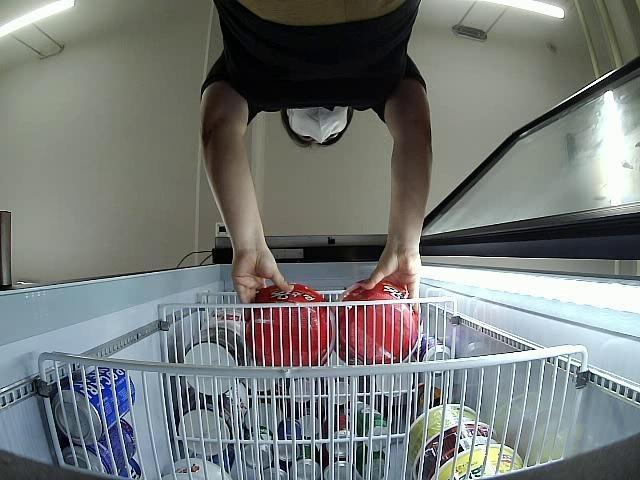10_wangTtukkeong: (245, 284, 338, 368), (341, 280, 419, 364)
